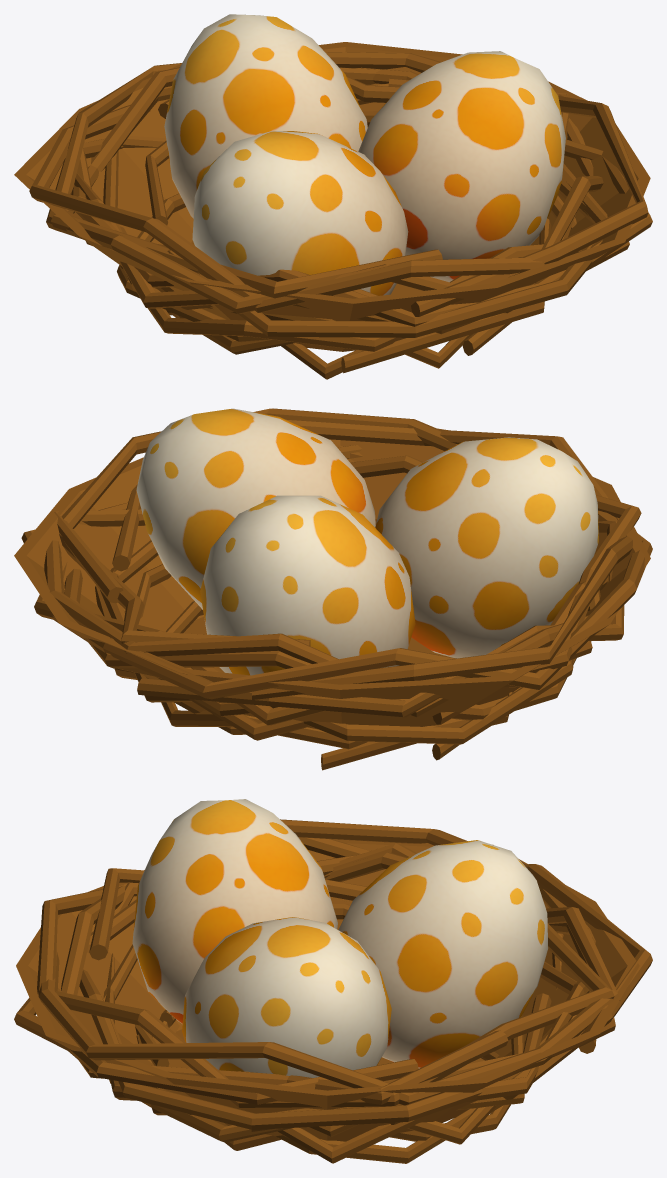
File: DanChao.fbx
3 views of the same model, one above another, from view 1: azimuth 30°, elevation 25°; view 2: azimuth 150°, elevation 25°; view 3: azimuth 270°, elevation 25° (orthographic). The views are drawn at different scales.
Parts seen in each view (by area): view 1: DanChao; view 2: DanChao; view 3: DanChao.
Part boxes in pixels (x1,y1,x2,y2): DanChao: (14, 14, 652, 379); DanChao: (14, 408, 652, 770); DanChao: (14, 799, 652, 1163).
Bounding box in the file's own units: 15.47 × 6.64 × 16.03.
Materials: 1 (1 with a texture image).
